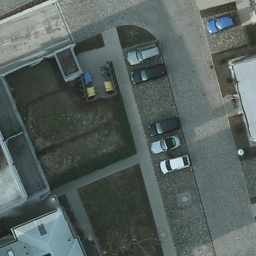car: (127, 43, 161, 63), (130, 65, 168, 82), (145, 116, 179, 133), (159, 156, 190, 171), (150, 137, 181, 152), (206, 15, 235, 31)
